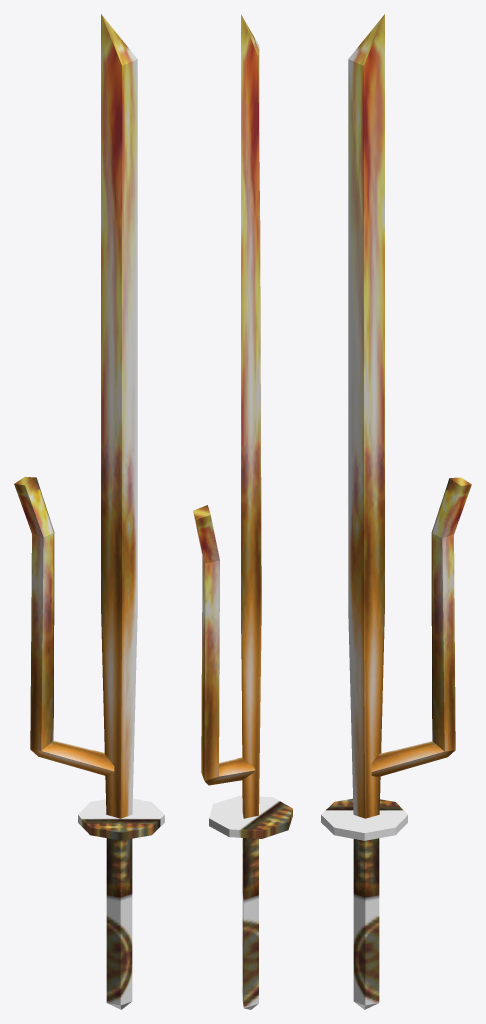
The model's file is heavybladev03_3.obj.
The picture shows the model from 3 angles, left to right: view 1: azimuth 90°, elevation 25°; view 2: azimuth 150°, elevation 25°; view 3: azimuth 270°, elevation 25°; orthographic projection.
Parts seen in each view (by area): view 1: MDL_cw2hkt03_3; view 2: MDL_cw2hkt03_3; view 3: MDL_cw2hkt03_3.
Part boxes in pixels (x1=…): MDL_cw2hkt03_3: x1=14, y1=14, x2=164, y2=1009; MDL_cw2hkt03_3: x1=193, y1=14, x2=292, y2=1009; MDL_cw2hkt03_3: x1=321, y1=14, x2=471, y2=1009.
Size of the model in its own units: 0.1388 by 1.77 by 0.2425.
